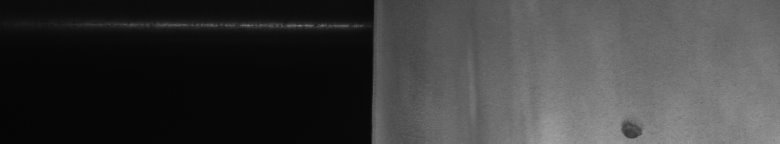fi: (616, 112, 649, 136)
